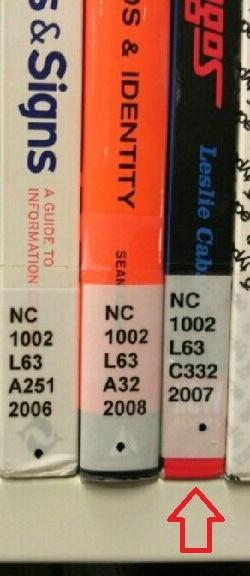call_number: (80, 285, 159, 469), (0, 288, 78, 466), (161, 274, 225, 461)
